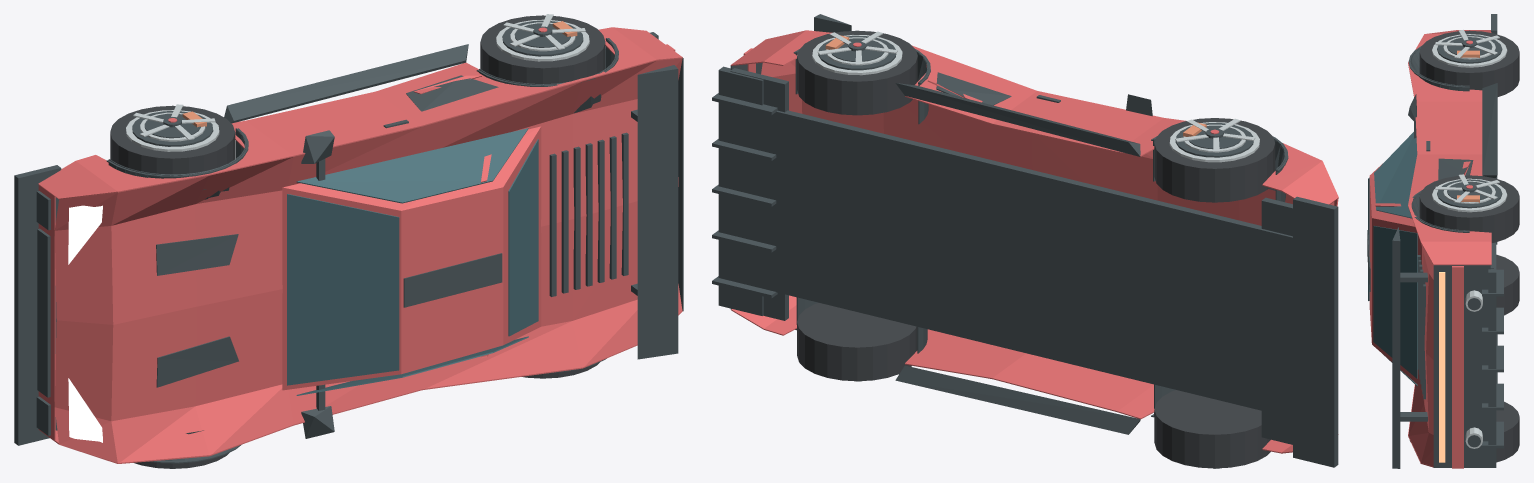
The model's file is volt-r9.glb.
The picture shows the model from 3 angles, left to right: view 1: azimuth 30°, elevation 25°; view 2: azimuth 150°, elevation 25°; view 3: azimuth 270°, elevation 25°; orthographic projection. The views are drawn at different scales.
Parts seen in each view (by area): view 1: faceted_body_upper, canopy_frame, windshield, open_arch_side_1, active_rear_wing, side_window_1, front_splitter, rear_glass, aero_sill_1, tire_-1.47_1, tire_1.47_1, roof_accent (+23 smaller); view 2: central_undertray, faceted_body_upper, front_splitter, open_arch_side_1, open_arch_side_-1, rear_diffuser, tire_1.47_-1, tire_-1.47_-1, tire_-1.47_1, tire_1.47_1, aero_sill_-1, aero_sill_1 (+7 smaller); view 3: open_arch_side_1, rear_panel, rear_glass, tire_1.47_1, tire_-1.47_1, faceted_body_upper, rear_bumper, side_window_1, active_rear_wing, canopy_frame, rear_diffuser, aero_sill_1 (+29 smaller).
Part boxes in pixels (x1,y1,x2,y2): faceted_body_upper: [54, 58, 682, 462]; canopy_frame: [282, 126, 541, 390]; windshield: [287, 194, 399, 385]; open_arch_side_1: [38, 27, 682, 199]; active_rear_wing: [637, 65, 678, 359]; side_window_1: [296, 128, 528, 203]; front_splitter: [14, 165, 61, 445]; rear_glass: [508, 139, 538, 336]; aero_sill_1: [224, 44, 468, 123]; tire_-1.47_1: [110, 105, 235, 190]; tire_1.47_1: [480, 15, 605, 83]; roof_accent: [403, 253, 502, 307]; central_undertray: [738, 108, 1292, 418]; faceted_body_upper: [761, 59, 1338, 225]; front_splitter: [1293, 196, 1338, 467]; open_arch_side_1: [731, 30, 1338, 204]; open_arch_side_-1: [731, 295, 1292, 453]; rear_diffuser: [718, 66, 763, 315]; tire_1.47_-1: [797, 303, 917, 381]; tire_-1.47_-1: [1154, 390, 1270, 468]; tire_-1.47_1: [1154, 118, 1275, 202]; tire_1.47_1: [797, 30, 917, 115]; aero_sill_-1: [895, 365, 1140, 434]; aero_sill_1: [895, 83, 1140, 156]; open_arch_side_1: [1408, 30, 1491, 265]; rear_panel: [1433, 265, 1490, 467]; rear_glass: [1373, 226, 1417, 378]; tire_1.47_1: [1419, 175, 1519, 242]; tire_-1.47_1: [1419, 30, 1519, 96]; faceted_body_upper: [1408, 243, 1433, 466]; rear_bumper: [1452, 266, 1463, 468]; side_window_1: [1374, 132, 1417, 218]; active_rear_wing: [1392, 227, 1400, 468]; canopy_frame: [1369, 163, 1422, 387]; rear_diffuser: [1488, 255, 1496, 467]; aero_sill_1: [1482, 83, 1497, 178].
Size of the model in its own units: 5.12 by 2.54 by 1.31.
